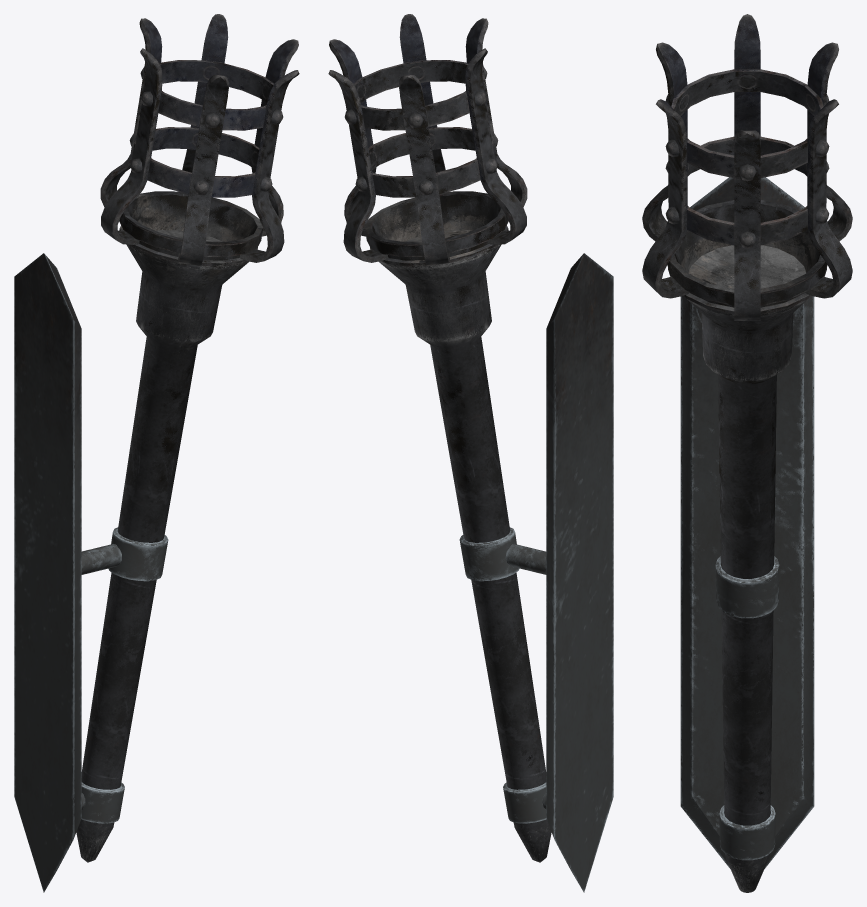
File: torch_in_hanger_lp.obj
3 views of the same model, side by side, from view 1: azimuth 30°, elevation 25°; view 2: azimuth 150°, elevation 25°; view 3: azimuth 270°, elevation 25° (orthographic). The views are drawn at different scales.
Visible parts, largest first — view 1: Torch.Joined_Circle.014, Hanger_Plane.002; view 2: Torch.Joined_Circle.014, Hanger_Plane.002; view 3: Torch.Joined_Circle.014, Hanger_Plane.002.
Boxes of the visible parts, x1,y1,x2,y2 form: Torch.Joined_Circle.014: (76, 14, 299, 862); Hanger_Plane.002: (14, 253, 168, 892); Torch.Joined_Circle.014: (328, 14, 551, 862); Hanger_Plane.002: (459, 253, 613, 892); Torch.Joined_Circle.014: (642, 14, 852, 892); Hanger_Plane.002: (680, 177, 814, 868).
Bounding box in the file's own units: 0.2493 × 0.767 × 0.1573.
